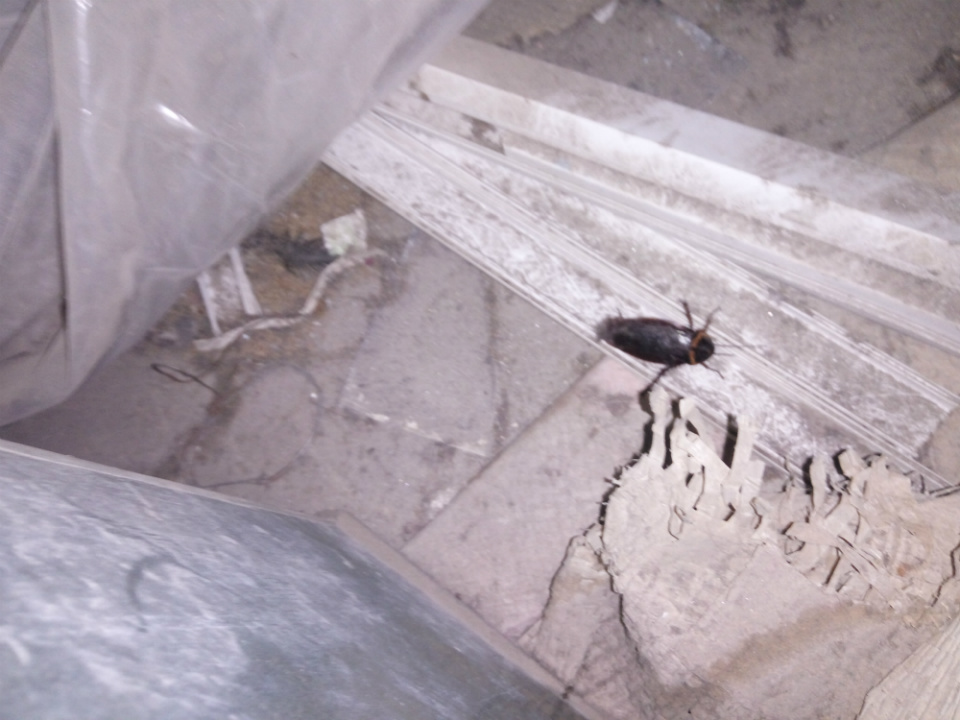cockroach: (557, 273, 751, 396)
